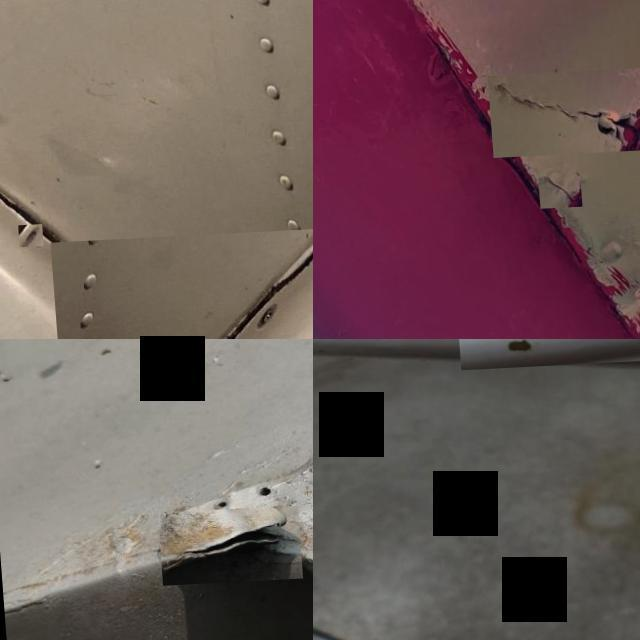Crack: (43, 231, 313, 339), (485, 73, 640, 161), (153, 508, 297, 588), (452, 339, 640, 372), (534, 171, 578, 213)
Missing_Fastener: (12, 225, 37, 248)
